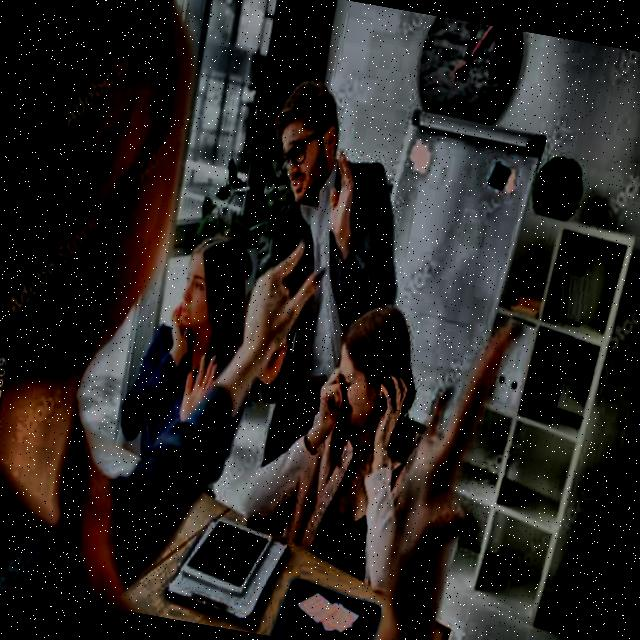disgust: (241, 58, 371, 217), (316, 285, 430, 462)
surprised: (164, 224, 257, 355)
